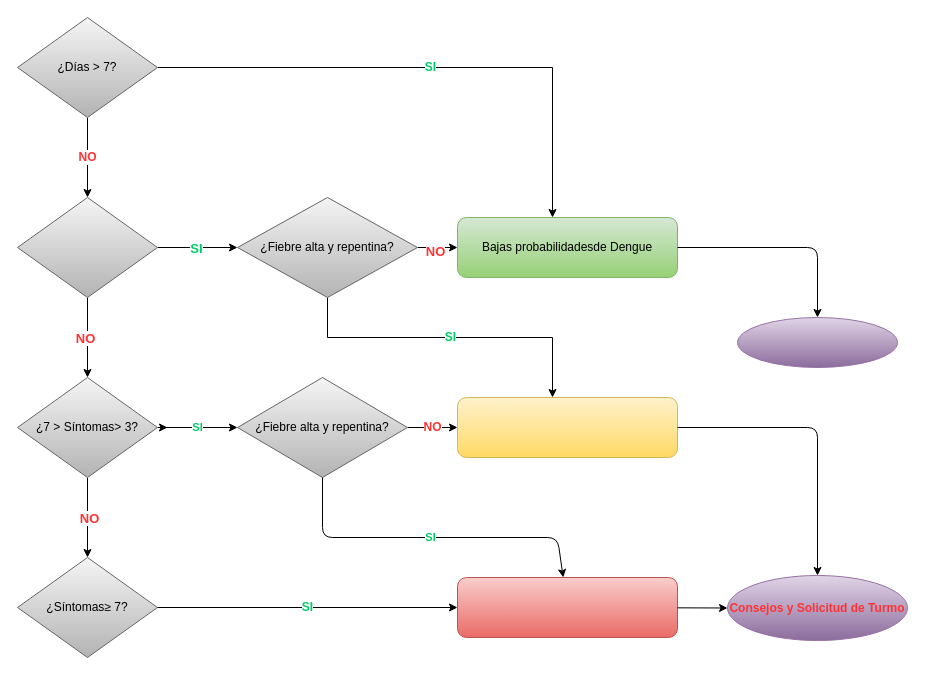
The diagram is 925 pixels wide and 675 high, and some of its shapes have lost their labels. The shapes that lost their labels are listed below. From the top down, each one's centre as x and y in pixels, then its label:
At point 87,247: "¿Síntomas≤ 3?".
At point 817,342: "Consejos".
At point 567,427: "Medias probabilidadesde Dengue".
At point 567,607: "Altas probabilidadesde Dengue".
